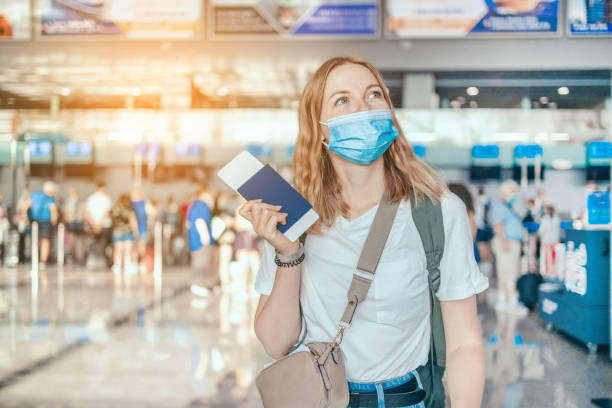with mask: (309, 55, 403, 166)
